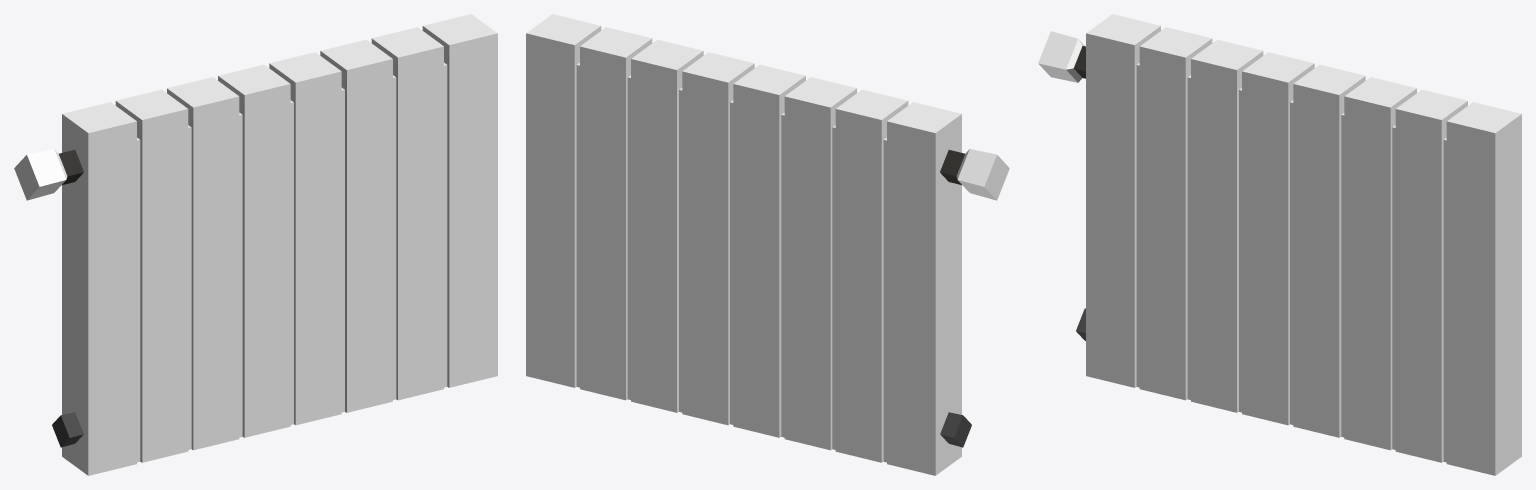
Rendered from Heater.fbx.
3 renders of one model, left to right at view 1: azimuth 30°, elevation 25°; view 2: azimuth 150°, elevation 25°; view 3: azimuth 330°, elevation 25°, orthographic.
Visible parts, largest first — view 1: polySurface2351; view 2: polySurface2351; view 3: polySurface2351.
Boxes of the visible parts, left/top/right/bottom form: polySurface2351: left=14, top=14, right=497, bottom=475; polySurface2351: left=526, top=14, right=1009, bottom=475; polySurface2351: left=1038, top=14, right=1521, bottom=475.
Bounding box in the file's own units: 1.68 × 1.2 × 0.1677.
Materials: 1 (1 with a texture image).
